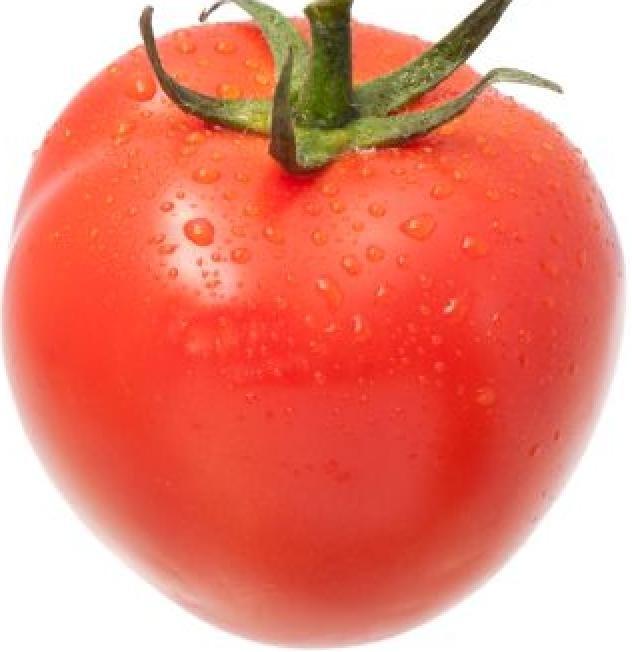tomato: (12, 13, 614, 647)
